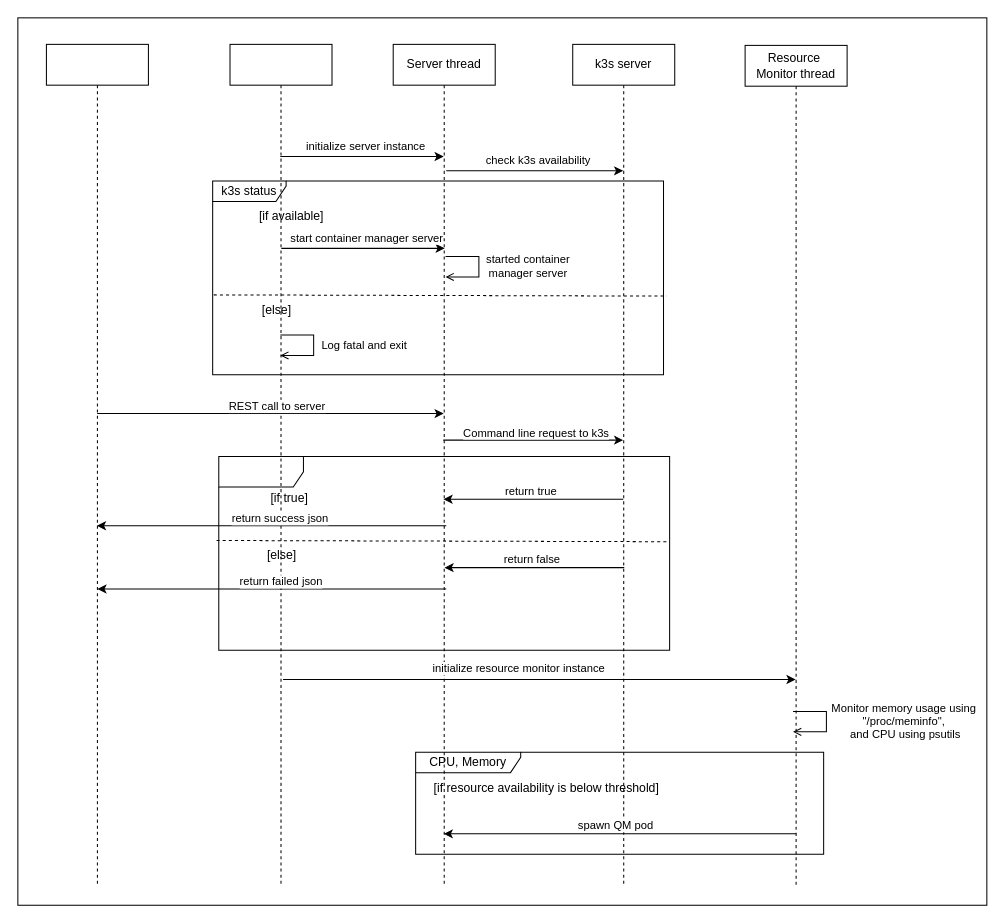
This 1005x923 diagram has some shape labels left out. Each missing label, with the box of its shape:
LF: (45, 43, 148, 885)
LFO: (229, 43, 332, 885)
Process LF request: (218, 455, 670, 650)
